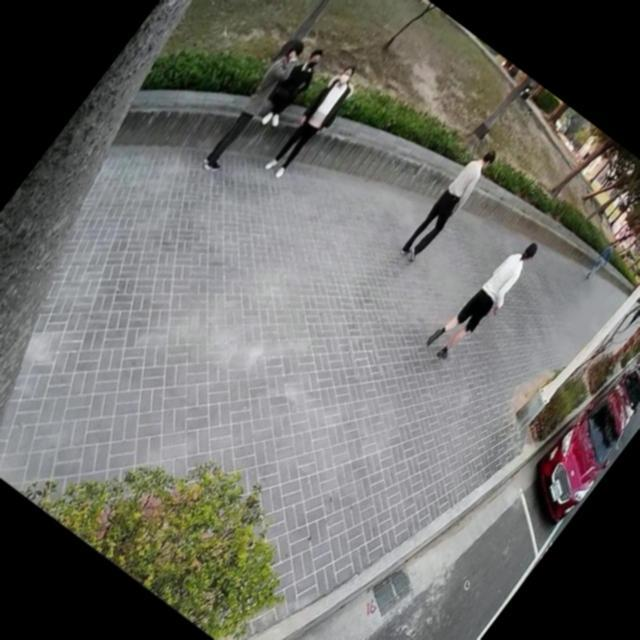person: (419, 220, 548, 372), (194, 26, 316, 178), (258, 54, 372, 188), (392, 134, 504, 269), (250, 36, 334, 136), (582, 236, 624, 285)
